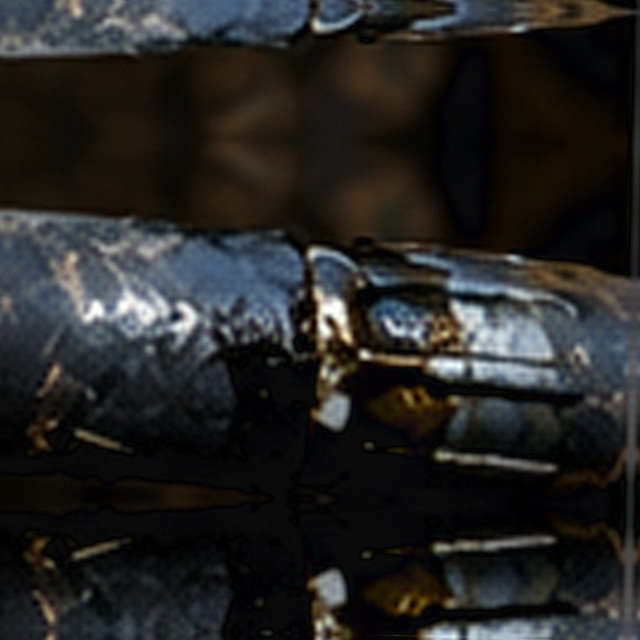hydraulic_oil_leak: (197, 237, 435, 482)
